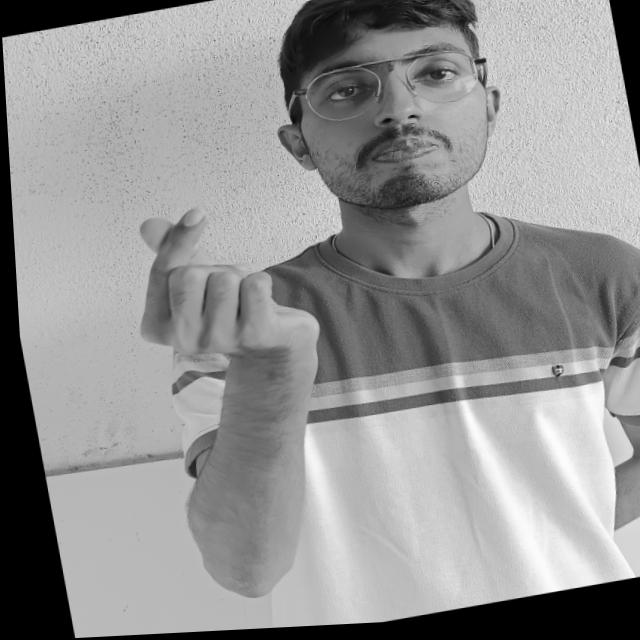Grattitude: (69, 174, 358, 435)
